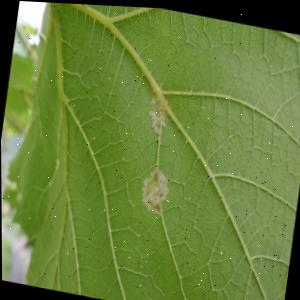Folha: (0, 0, 300, 300)
Fungo: (138, 165, 172, 215), (146, 93, 170, 134)
